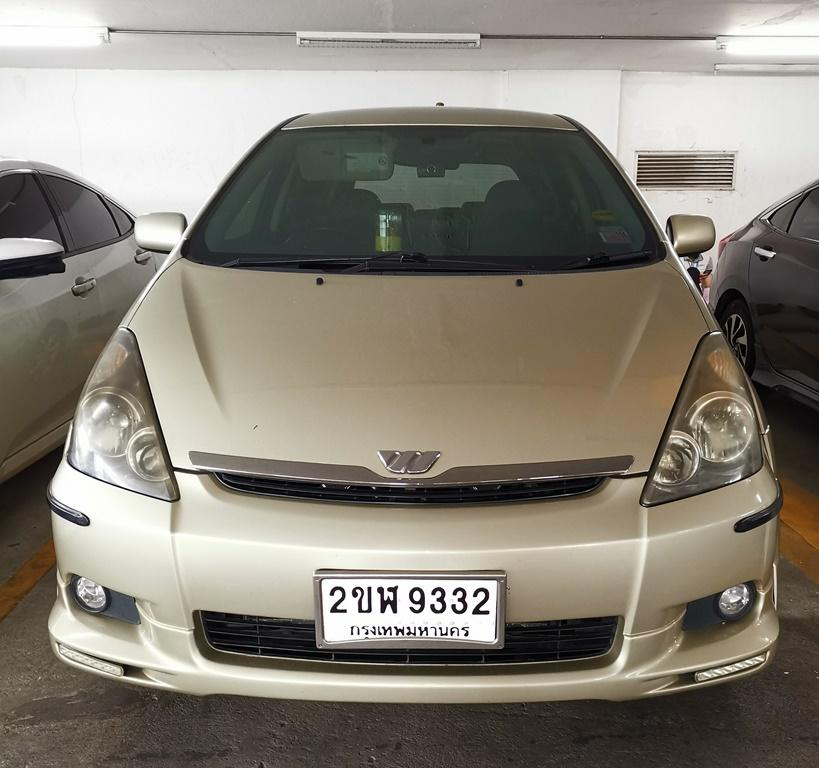license-plate: (310, 563, 507, 656)
